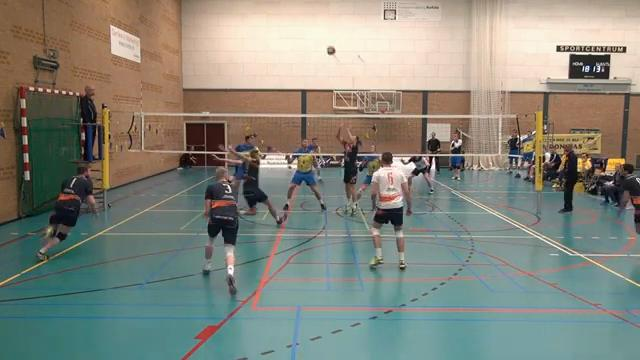Player: (37, 165, 96, 260), (212, 147, 282, 224), (370, 152, 411, 268), (203, 167, 237, 294), (283, 139, 325, 210), (618, 164, 639, 233), (357, 144, 379, 200), (401, 156, 433, 193), (234, 134, 256, 153), (313, 156, 322, 182)
Set: (336, 121, 363, 218)
ball: (326, 45, 338, 57)
